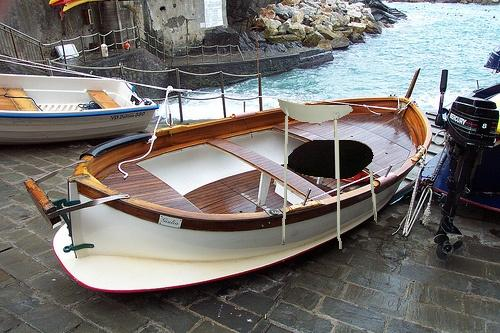tampered: (279, 99, 377, 249)
